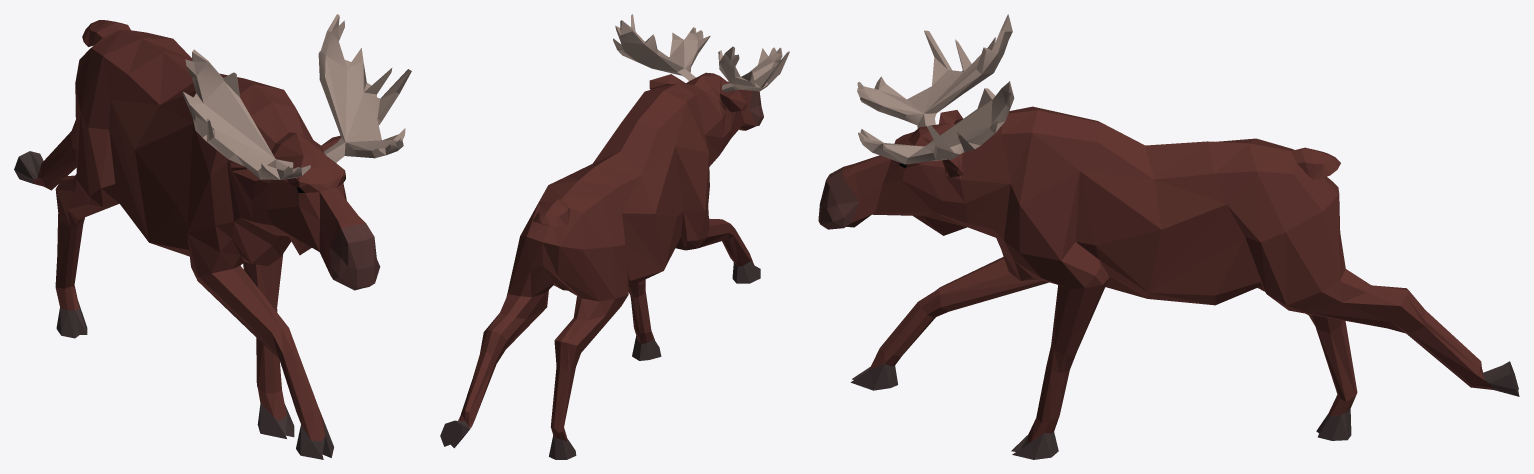
Rendered from moose_colorMap.obj.
3 views of the same model, side by side, from view 1: azimuth 30°, elevation 25°; view 2: azimuth 150°, elevation 25°; view 3: azimuth 270°, elevation 25° (orthographic). The views are drawn at different scales.
Parts seen in each view (by area): view 1: polySurface1; view 2: polySurface1; view 3: polySurface1.
Part boxes in pixels (<box>): polySurface1: <box>14,14,411,459</box>; polySurface1: <box>440,14,789,459</box>; polySurface1: <box>818,14,1519,459</box>.
Size of the model in its own units: 122 by 239 by 381.
